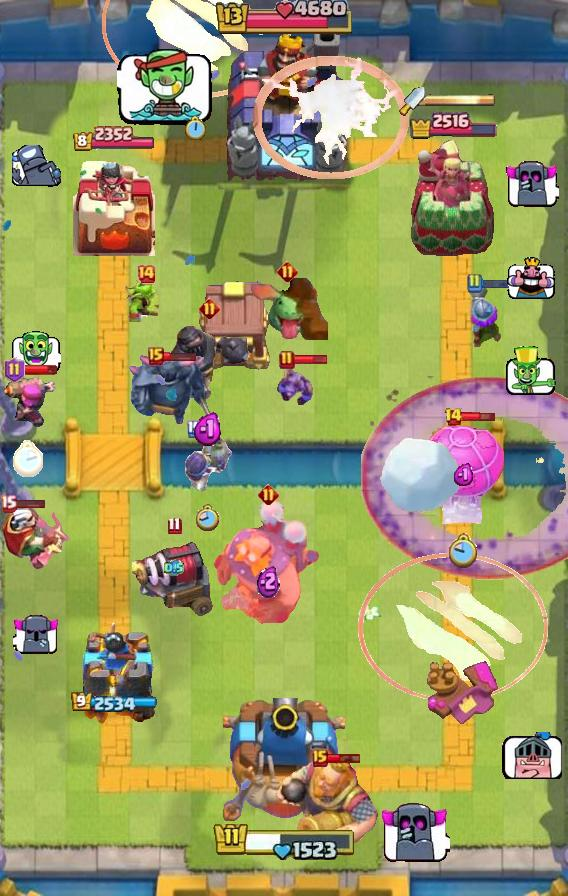bar: (409, 138, 497, 256)
barbarian-evolution: (253, 56, 409, 179)
bomb: (193, 278, 273, 372)
bomb-tower: (469, 283, 503, 347)
cannon-cart: (420, 419, 508, 527)
clock: (212, 818, 356, 860), (213, 0, 355, 38)
electro-spirit: (193, 413, 223, 448), (256, 562, 280, 597), (453, 463, 475, 487), (164, 559, 184, 577)
electro-wizard: (246, 278, 328, 340)
elixir: (11, 440, 43, 477), (449, 532, 479, 567), (196, 504, 220, 532), (185, 116, 207, 142)
emote: (460, 410, 495, 423), (22, 364, 58, 376), (326, 752, 362, 764), (481, 277, 516, 289), (162, 350, 197, 362), (11, 498, 46, 510), (293, 355, 328, 366)
giant-skeleton: (275, 759, 383, 855)
goblin-ball: (181, 431, 235, 493)
golem: (132, 540, 216, 626)
golemite: (127, 354, 211, 426)
ice-wizard: (358, 553, 548, 703), (101, 0, 290, 98)
king-tower: (219, 21, 349, 181), (223, 698, 345, 826)
king-tower-bar: (425, 93, 495, 107)
little-prince: (214, 499, 322, 625)
queen-tower: (72, 619, 156, 731), (73, 156, 155, 256)
rocket: (360, 376, 567, 580)
royal-delivery: (277, 365, 317, 409)
royal-guardian: (164, 319, 254, 401)
selected: (408, 110, 498, 140), (72, 126, 156, 154), (70, 692, 157, 714)
skeleton: (117, 49, 213, 126), (378, 800, 450, 864), (504, 346, 558, 398), (502, 733, 563, 779), (505, 159, 560, 209), (11, 145, 60, 188), (11, 331, 61, 373), (507, 257, 555, 300), (12, 614, 59, 656)
skeleton-king: (0, 501, 72, 573)
text: (4, 357, 25, 383), (199, 297, 220, 319), (257, 483, 279, 504), (277, 261, 298, 282), (136, 264, 156, 284), (445, 407, 464, 427), (466, 273, 482, 293), (279, 350, 295, 370), (148, 347, 164, 365), (187, 420, 203, 438), (0, 495, 16, 513), (312, 749, 328, 767), (167, 517, 181, 536)
tombstone: (0, 375, 58, 429)
wall-breaker: (379, 436, 463, 514)
zap: (125, 280, 167, 324)
